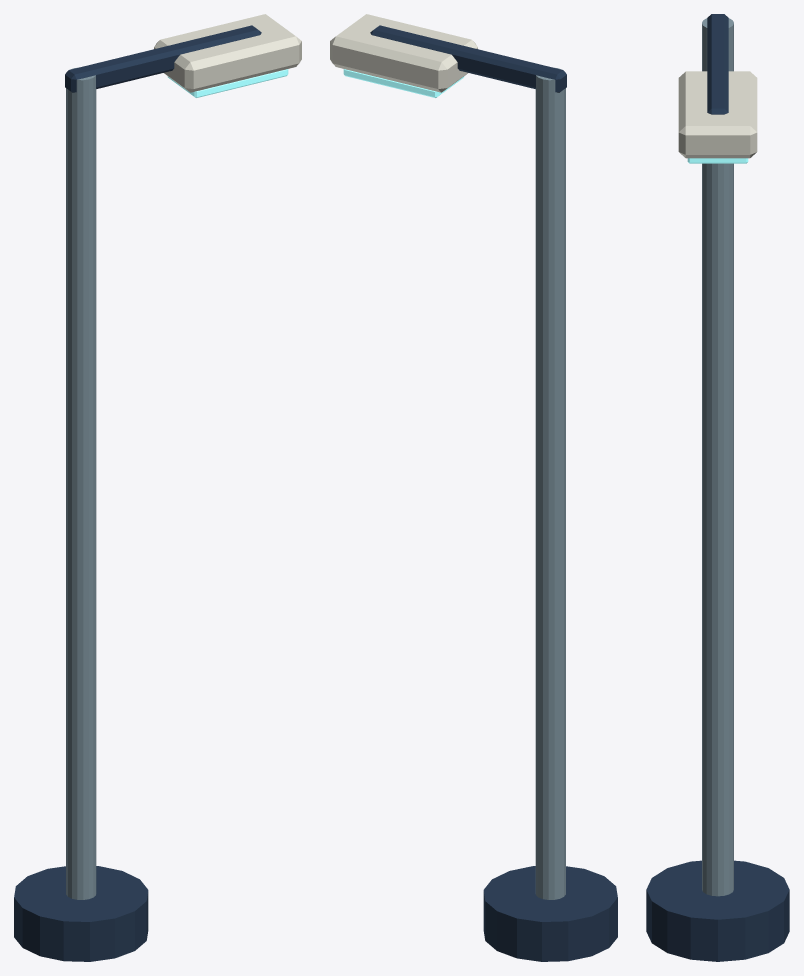
File: streetlamp.glb
The picture shows the model from 3 angles, left to right: view 1: azimuth 30°, elevation 25°; view 2: azimuth 150°, elevation 25°; view 3: azimuth 270°, elevation 25°; orthographic projection. The views are drawn at different scales.
Visible parts, largest first — view 1: pole, base, lamp, arm, light; view 2: pole, base, lamp, arm, light; view 3: pole, base, lamp, arm, light.
Boxes of the visible parts, bbox=[...] form: pole: bbox=[66, 67, 96, 899]; base: bbox=[14, 866, 148, 961]; lamp: bbox=[154, 14, 301, 92]; arm: bbox=[65, 25, 261, 92]; light: bbox=[167, 69, 288, 97]; pole: bbox=[535, 67, 565, 899]; base: bbox=[483, 866, 617, 961]; lamp: bbox=[330, 14, 477, 92]; arm: bbox=[370, 25, 566, 92]; light: bbox=[343, 69, 464, 97]; pole: bbox=[702, 18, 733, 896]; base: bbox=[646, 860, 789, 961]; lamp: bbox=[678, 71, 757, 158]; arm: bbox=[707, 14, 728, 114]; light: bbox=[687, 158, 748, 163].
Size of the model in its own units: 0.9 by 2.81 by 0.4.
